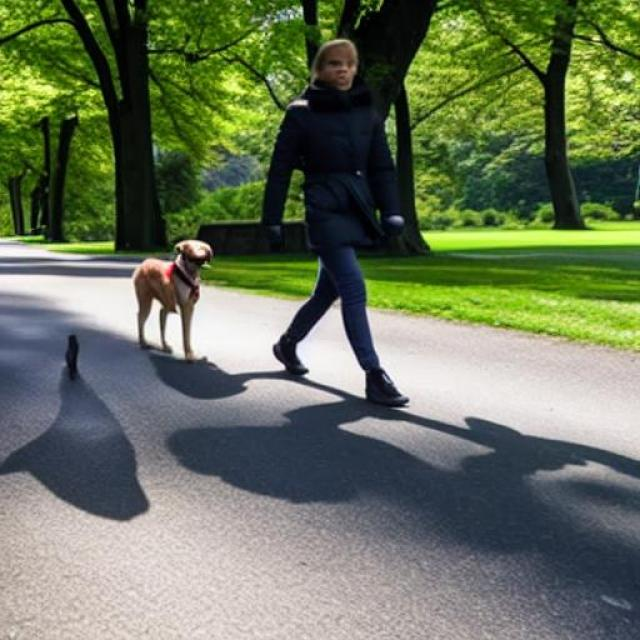Unleashed_Dog: (132, 222, 347, 364)
